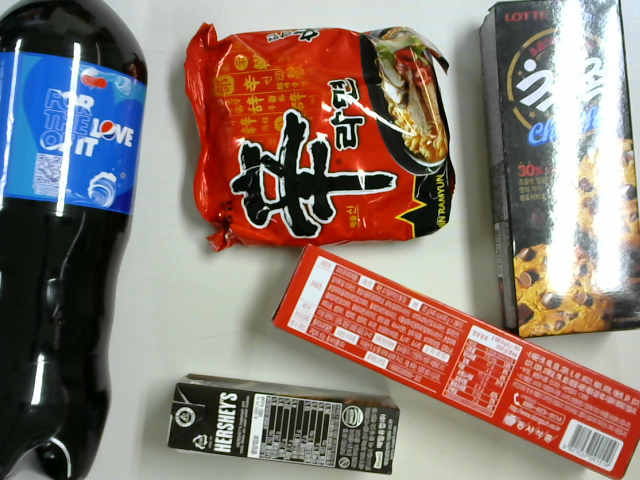Chicchok_Original_2400: (485, 1, 627, 339)
Hush_Choco_Drink: (166, 358, 397, 480)
Pepsi_Cola_1.5L: (1, 4, 157, 458)
Ritz_Cracker: (273, 245, 640, 477)
Sinramen: (168, 22, 468, 243)
